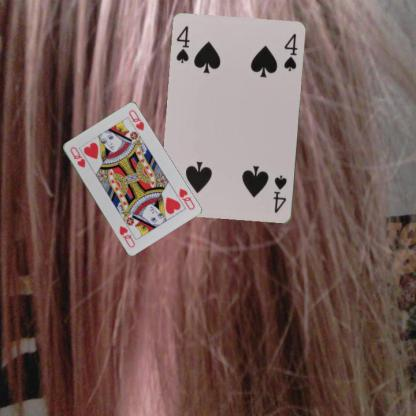4s: (270, 173, 288, 214), (174, 24, 191, 64)
Qh: (176, 185, 196, 211), (67, 144, 87, 169)
